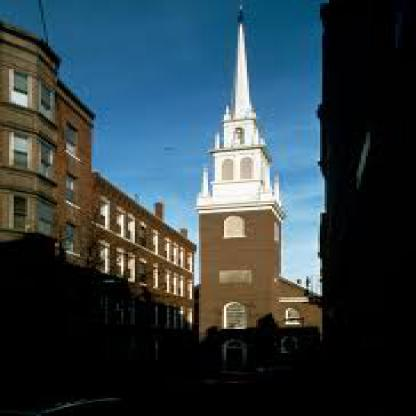North Church: (188, 3, 338, 368)
